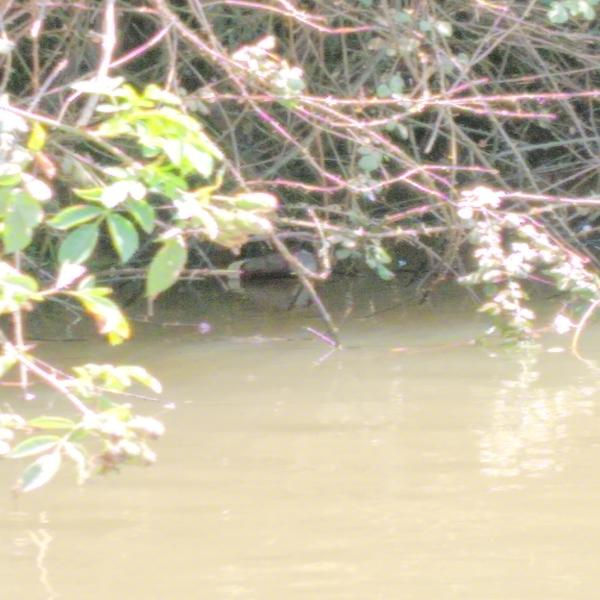others: (224, 249, 319, 281)
